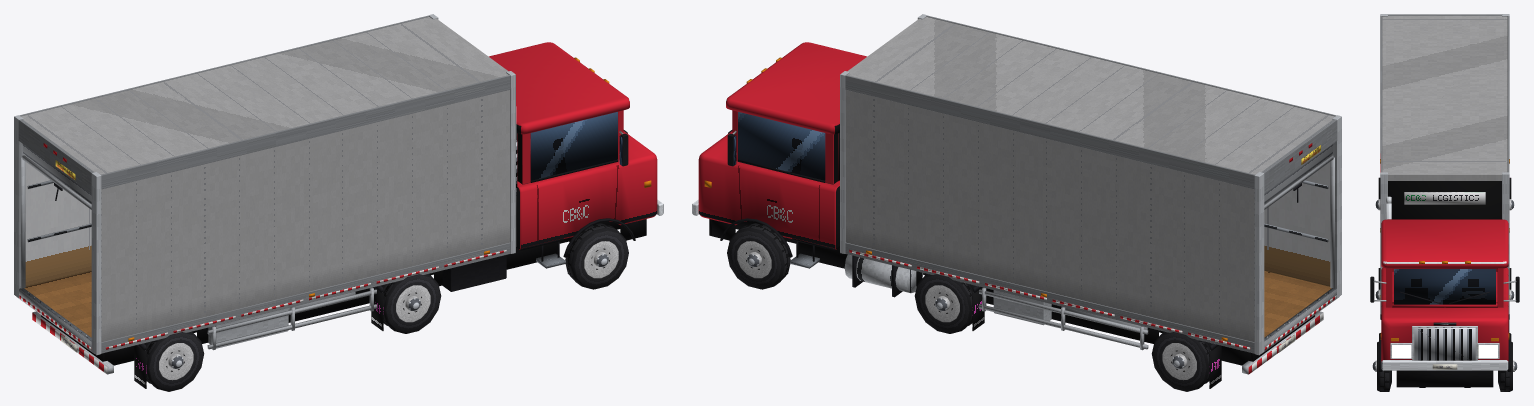
Rendered from p_boxtruck.glb.
3 views of the same model, side by side, from view 1: azimuth 30°, elevation 25°; view 2: azimuth 150°, elevation 25°; view 3: azimuth 270°, elevation 25° (orthographic). The views are drawn at different scales.
Visible parts, largest first — view 1: boxtruck_lod0; view 2: boxtruck_lod0; view 3: boxtruck_lod0.
Boxes of the visible parts, x1,y1,x2,y2 form: boxtruck_lod0: (14, 14, 663, 391); boxtruck_lod0: (692, 14, 1341, 391); boxtruck_lod0: (1370, 14, 1519, 391).
Size of what is drawn, in the model's own units: 10.1 by 3.97 by 2.93.
5 materials, 4 textured.
